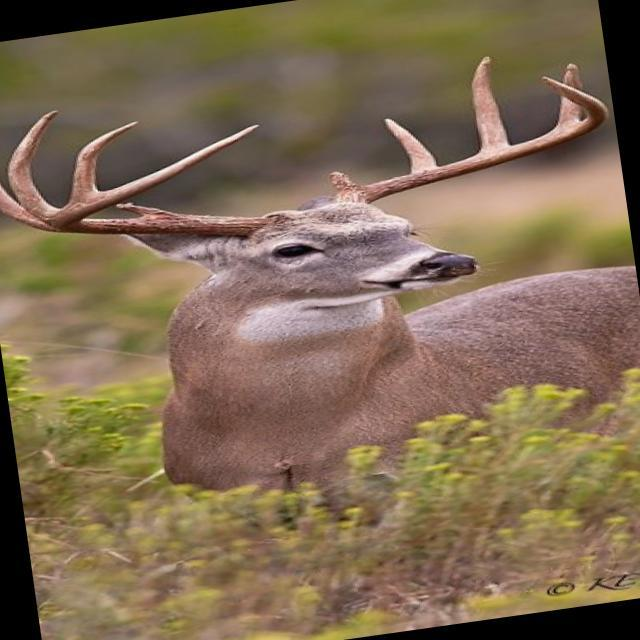L-F: (321, 75, 612, 206)
L-G1: (324, 170, 365, 195)
L-G2: (381, 117, 439, 174)
L-G3: (469, 56, 513, 155)
R-F: (58, 124, 288, 237)
R-G1: (114, 200, 180, 218)
R-G2: (0, 175, 69, 234)
R-G3: (6, 109, 63, 223)
R-G4: (69, 121, 141, 203)
